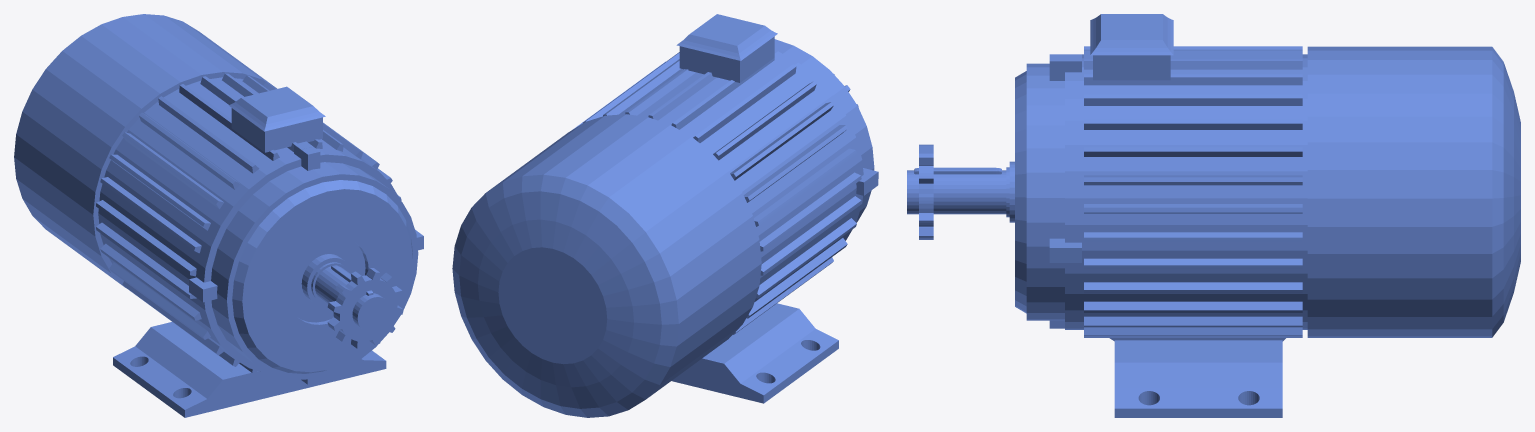
Rendered from ElectricMotorAndCraddle.fbx.
3 renders of one model, left to right at view 1: azimuth 30°, elevation 25°; view 2: azimuth 150°, elevation 25°; view 3: azimuth 270°, elevation 25°, orthographic. The views are drawn at different scales.
Visible parts, largest first — view 1: Motor; view 2: Motor; view 3: Motor.
Part boxes in pixels (bbox=[...]): Motor: bbox=[14, 14, 423, 417]; Motor: bbox=[452, 14, 878, 417]; Motor: bbox=[907, 14, 1520, 417].
Size of the model in its own units: 204 by 252 by 421.
